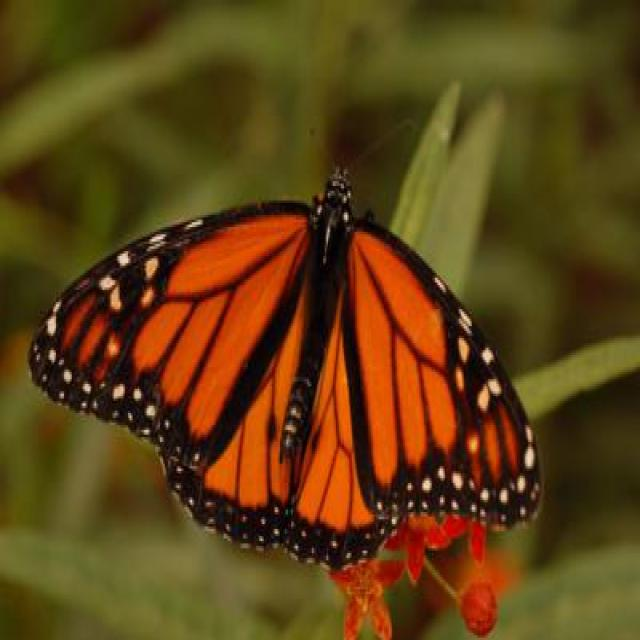antennae: (297, 114, 447, 179)
body: (281, 166, 352, 456)
insect: (26, 105, 542, 568)
wings: (29, 197, 317, 555), (298, 217, 543, 566)
